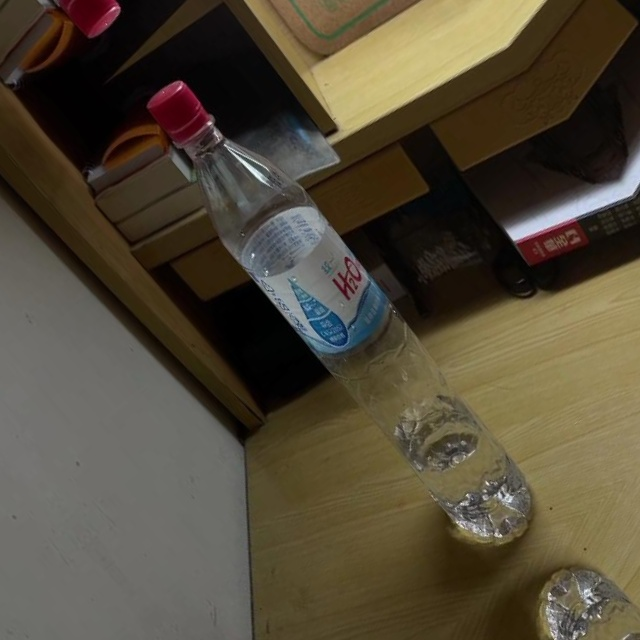Water: (122, 60, 563, 560)
